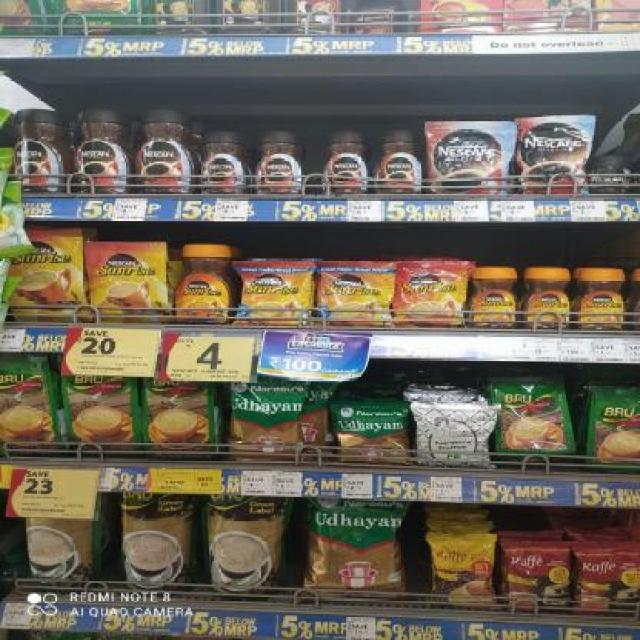Coffee: (2, 229, 86, 323), (87, 244, 168, 324), (424, 122, 508, 193), (516, 119, 589, 195), (68, 108, 130, 195), (133, 109, 196, 194), (173, 243, 234, 322), (319, 262, 392, 326), (10, 110, 65, 194), (396, 261, 466, 327), (240, 262, 308, 323), (196, 130, 247, 193), (253, 132, 304, 194), (322, 132, 372, 194), (373, 132, 424, 192), (576, 268, 626, 329), (472, 267, 516, 328), (527, 268, 570, 328), (592, 156, 633, 195)
